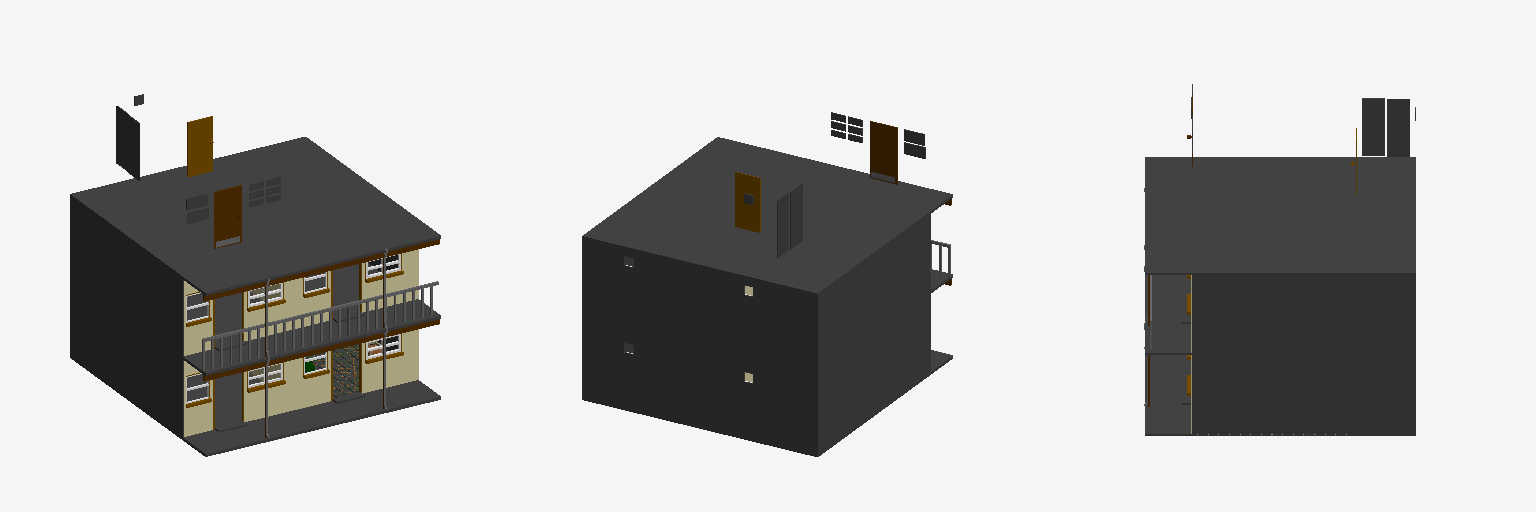
3 renders of one model, left to right at view 1: azimuth 30°, elevation 25°; view 2: azimuth 150°, elevation 25°; view 3: azimuth 270°, elevation 25°, orthographic.
Visible parts, largest first — view 1: object 1; view 2: object 1; view 3: object 1.
Boxes of the visible parts, x1=… form: object 1: x1=70, y1=94, x2=440, y2=456; object 1: x1=582, y1=112, x2=952, y2=456; object 1: x1=1144, y1=84, x2=1415, y2=435.
Size of the model in its own units: 25.6 by 25.5 by 25.6.
Materials: 1 (1 with a texture image).